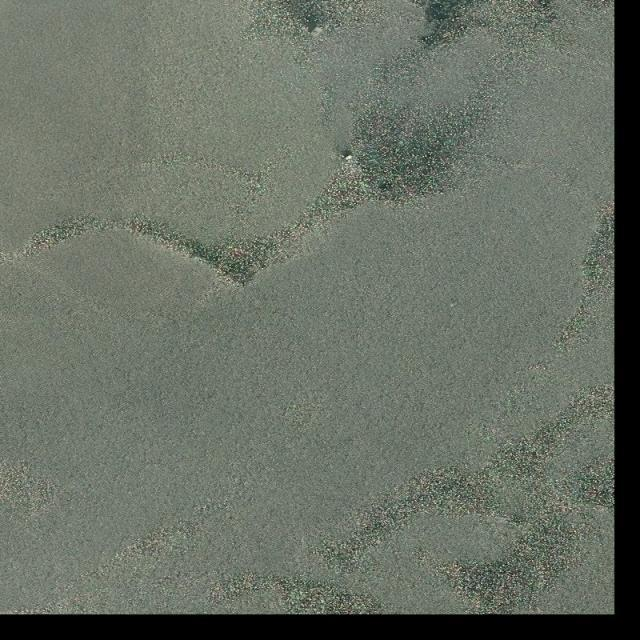ship: (340, 153, 354, 164)
